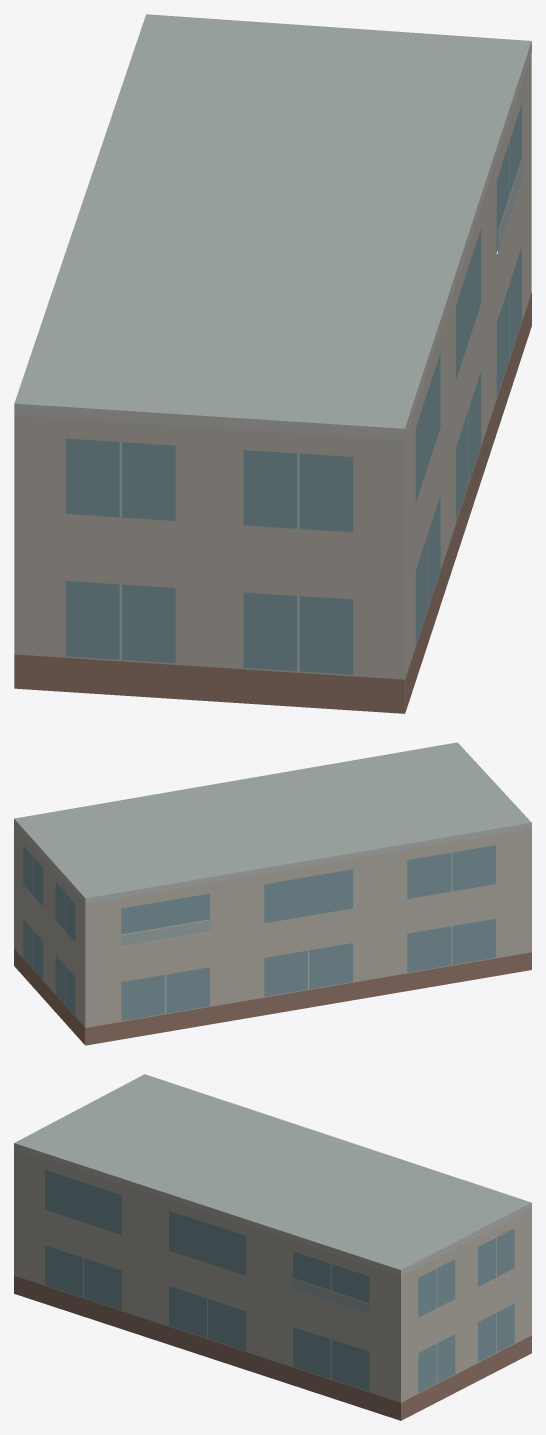
File: survey-upis-32884749.glb
3 renders of one model, top to bottom at view 1: azimuth 30°, elevation 25°; view 2: azimuth 150°, elevation 25°; view 3: azimuth 270°, elevation 25°, orthographic. The views are drawn at different scales.
Parts seen in each view (by area): view 1: survey-upis-32884749.tmp; view 2: survey-upis-32884749.tmp; view 3: survey-upis-32884749.tmp.
Part boxes in pixels (box(x1,y1,x2,y2)): survey-upis-32884749.tmp: box(14, 14, 531, 713); survey-upis-32884749.tmp: box(14, 742, 531, 1045); survey-upis-32884749.tmp: box(14, 1074, 531, 1420).
Bounding box in the file's own units: 17.03 × 6.1 × 19.01.
